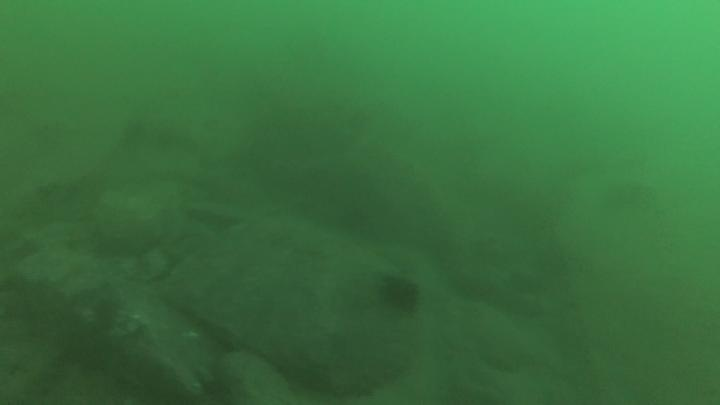echinus: (377, 272, 423, 316)
